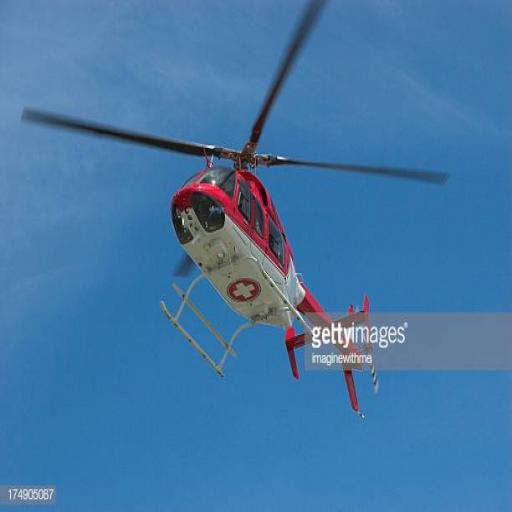helicopter: (24, 2, 450, 408)
